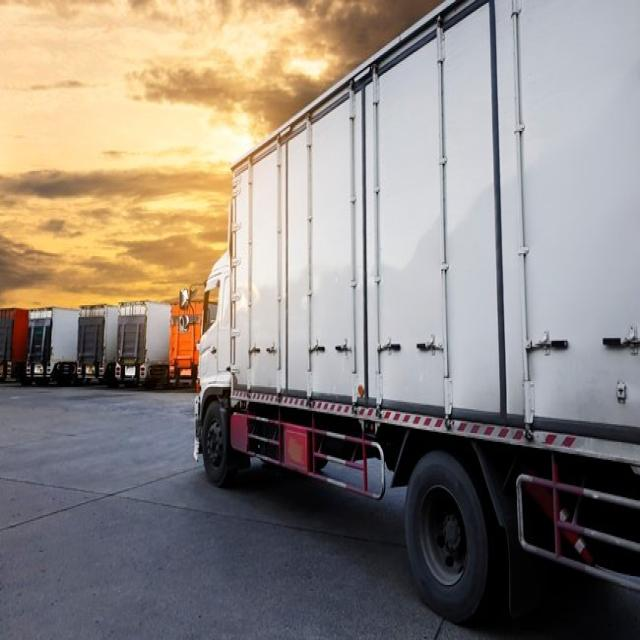Heavy Duty Truck: (189, 2, 640, 634), (110, 293, 168, 393), (165, 292, 208, 394), (71, 296, 113, 390), (22, 299, 63, 393), (1, 299, 15, 390)
